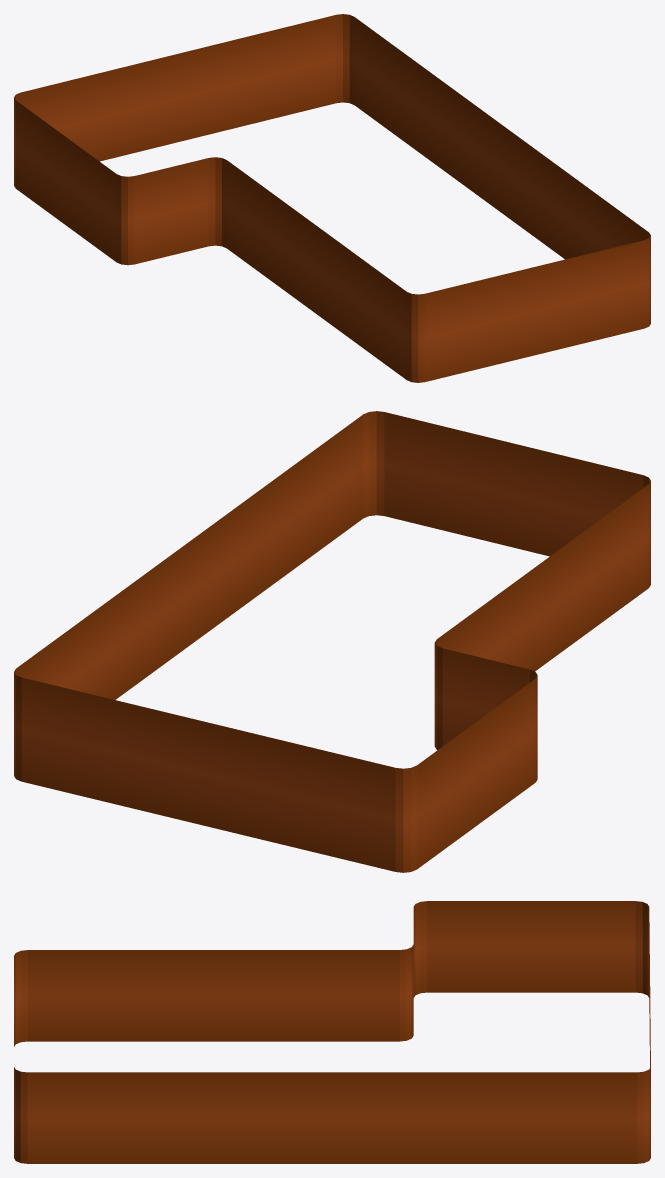
The model's file is grass_hill_002.fbx.
3 renders of one model, top to bottom at view 1: azimuth 30°, elevation 25°; view 2: azimuth 150°, elevation 25°; view 3: azimuth 270°, elevation 25°, orthographic. The views are drawn at different scales.
Visible parts, largest first — view 1: grass_hill.002; view 2: grass_hill.002; view 3: grass_hill.002.
Boxes of the visible parts, <box> form: grass_hill.002: <box>14,14,650,382</box>; grass_hill.002: <box>14,411,650,872</box>; grass_hill.002: <box>14,901,650,1163</box>.
Bounding box in the file's own units: 422 × 105 × 663.
